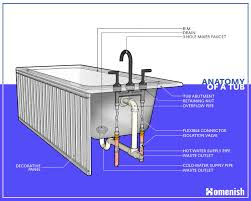bathub: (15, 61, 185, 174)
